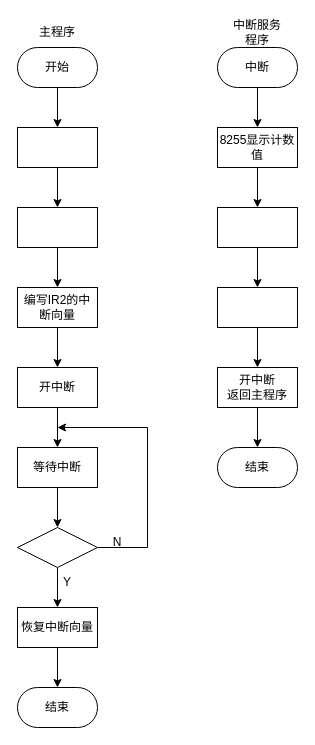
Some shapes in this 315 by 745 pixel diagram are drawn without their labels. Here are the shapes that lost their labels. From the top down, the centre of each, then its label:
point (57, 147): 8255初始化
point (57, 227): 8259初始化
point (257, 227): 计数+1
point (257, 307): 中断结束EOI
point (57, 547): 计数==10
